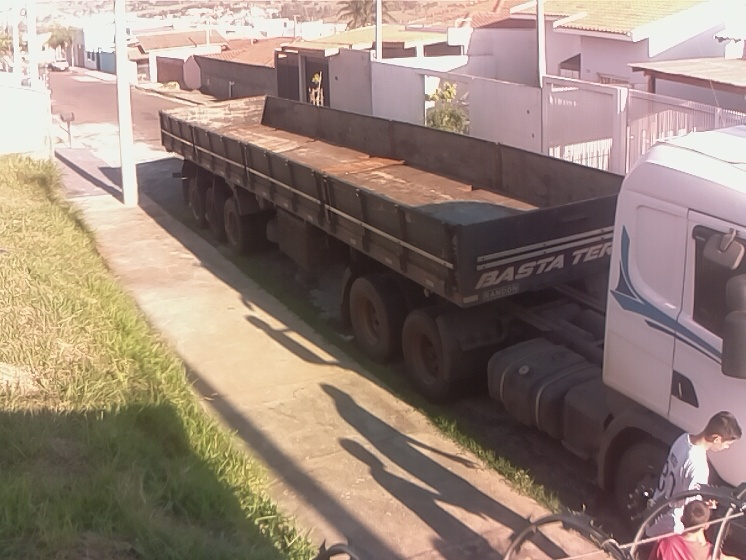person: (636, 404, 742, 560), (646, 499, 734, 560)
